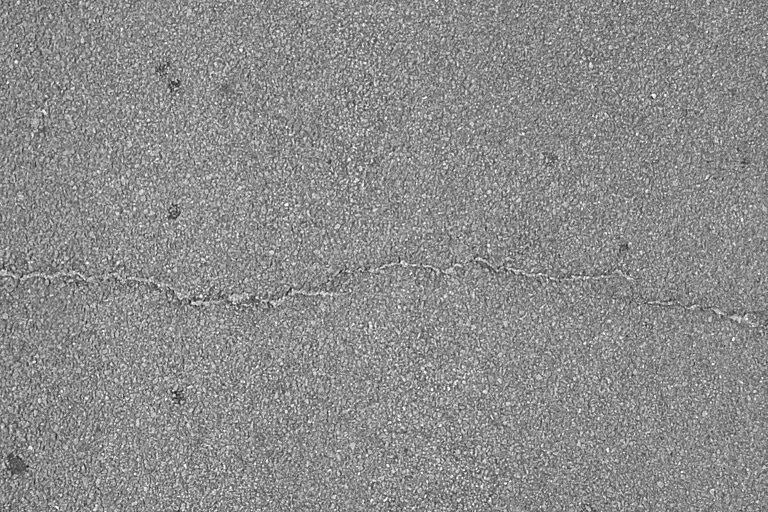crack: (0, 257, 768, 329)
